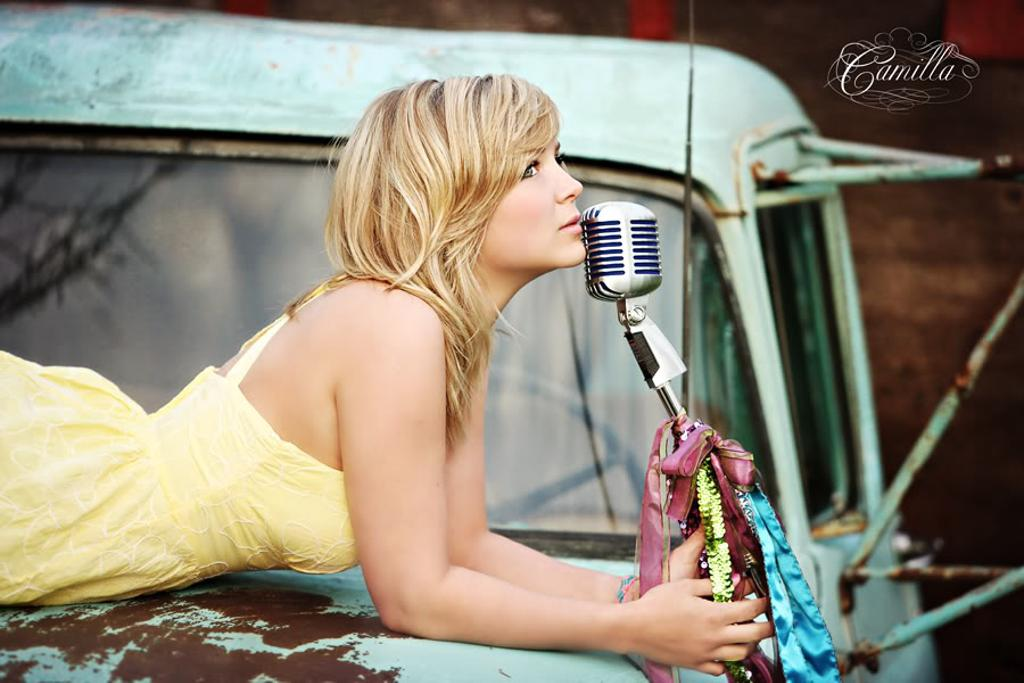face: (468, 96, 590, 270)
